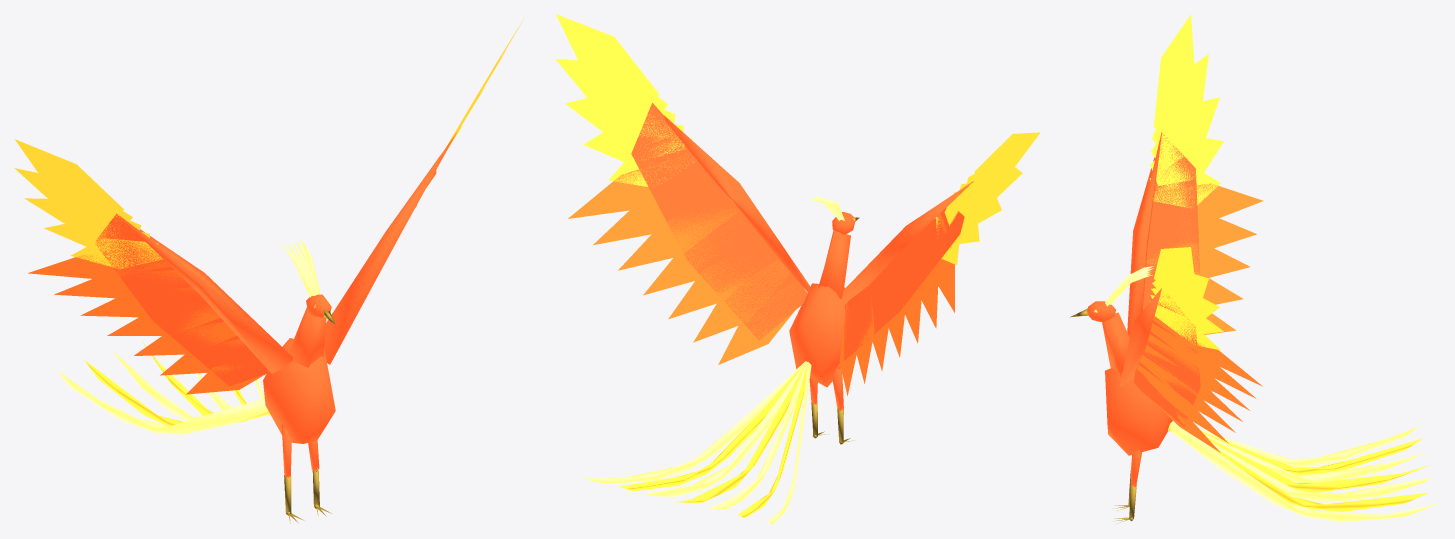
Rendered from phoenix_lod.glb.
3 renders of one model, left to right at view 1: azimuth 30°, elevation 25°; view 2: azimuth 150°, elevation 25°; view 3: azimuth 270°, elevation 25°, orthographic. The views are drawn at different scales.
Visible parts, largest first — view 1: body, tail, head, leg_R; view 2: body, tail, head, leg_R; view 3: body, tail, head, leg_L.
Boxes of the visible parts, bbox=[...] form: body: bbox=[14, 18, 524, 443]; tail: bbox=[57, 342, 270, 434]; head: bbox=[281, 239, 335, 324]; leg_R: bbox=[281, 424, 304, 523]; body: bbox=[555, 14, 1040, 395]; tail: bbox=[582, 361, 811, 524]; head: bbox=[809, 196, 859, 234]; leg_R: bbox=[833, 364, 855, 444]; body: bbox=[1102, 14, 1263, 455]; tail: bbox=[1168, 421, 1439, 522]; head: bbox=[1070, 266, 1153, 322]; leg_L: bbox=[1114, 450, 1141, 523].
Size of the model in its own units: 5.15 by 3.97 by 3.47.
